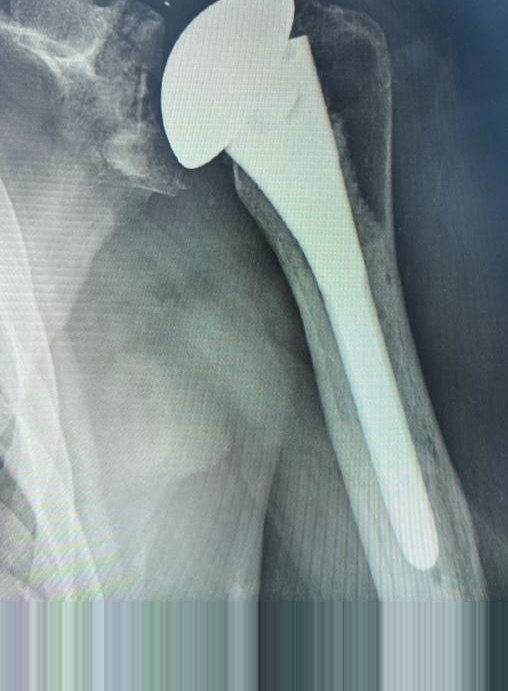Shoulder - Anotomical - Stryker: (155, 1, 345, 176)
